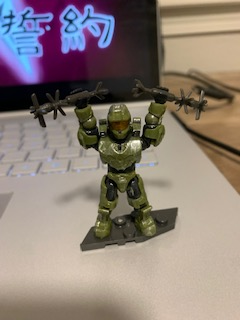chief: (68, 86, 169, 238)
spartan: (66, 84, 167, 236)
up: (65, 85, 169, 170)
